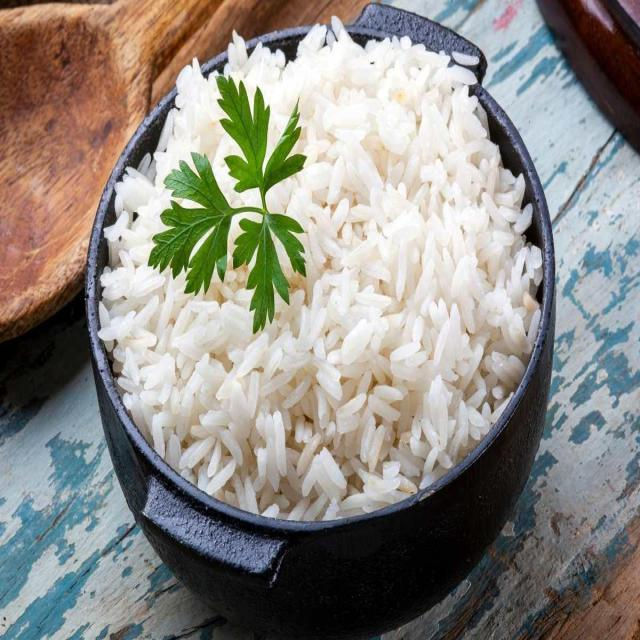rice: (99, 34, 545, 520)
